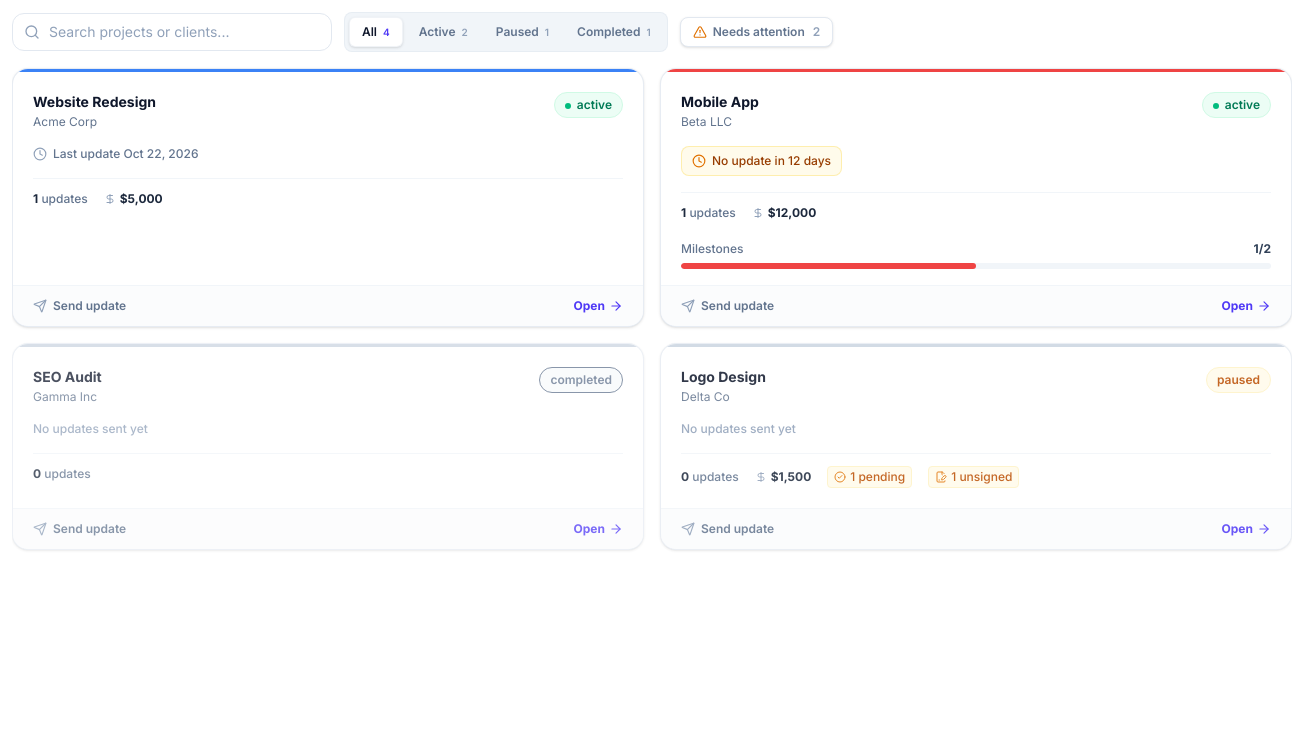
Test: ProjectsClientGrid Component › filters projects by status tab
Note: Click "Active" tab
Click the button "active2". click: (443, 32)
box: [407,18,480,46]
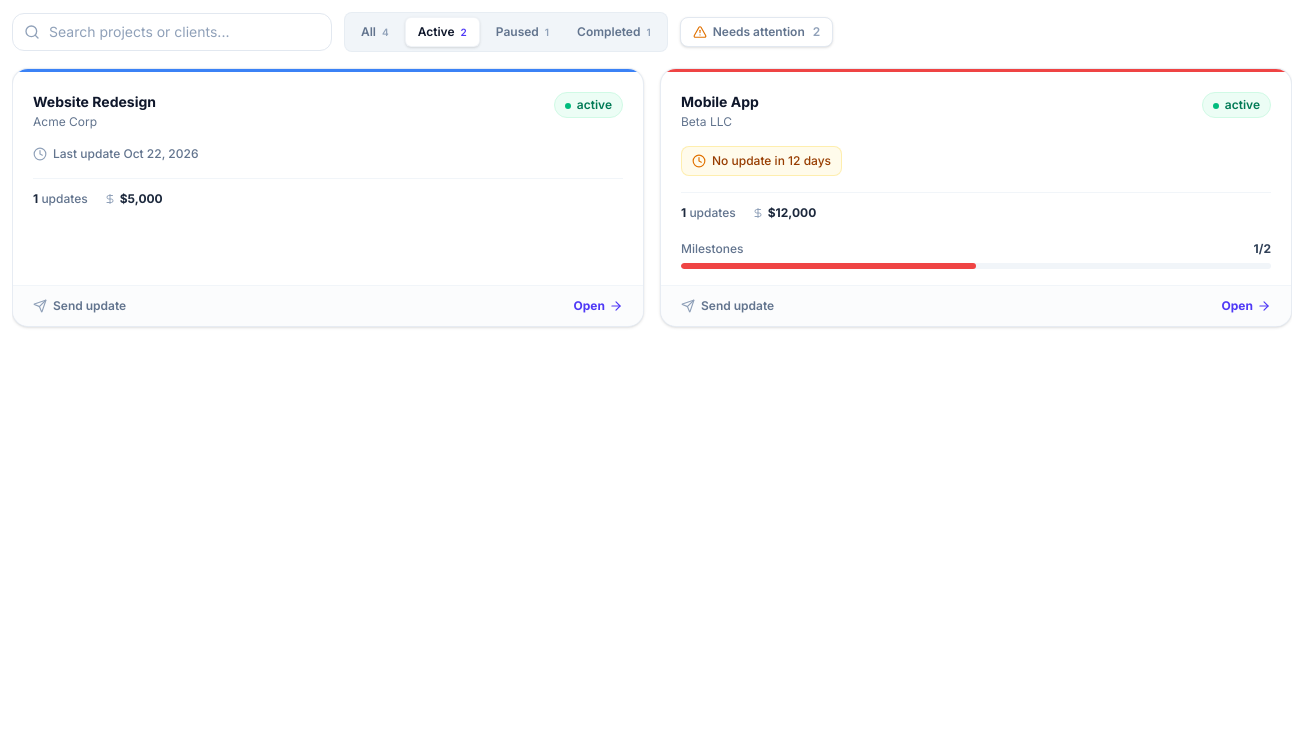
Expected: the link "Website Redesign" is shown, [33,92,156,112]
Now the link "SEO Audit" is gone
Now the link "Logo Design" is gone
Note: Click "Completed" tab
Click the button "completed1". click: (614, 32)
box: [565,18,663,46]
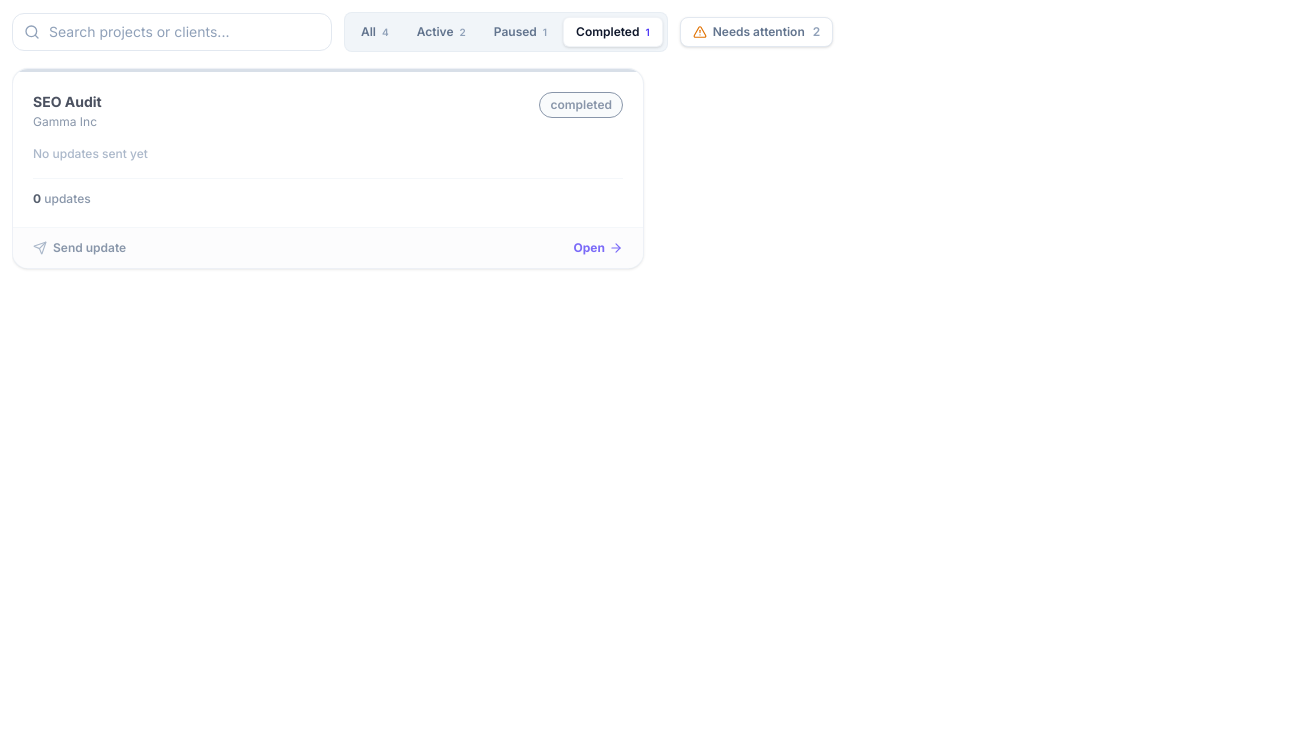
Now the link "SEO Audit" is shown, box [33,92,102,112]
Now the link "Website Redesign" is gone
Now the link "Mobile App" is gone
